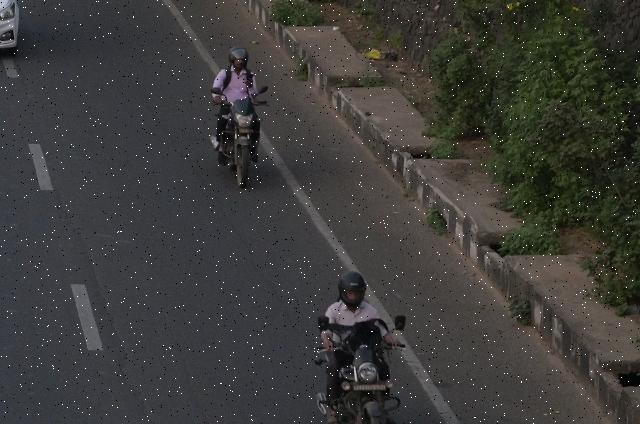With Helmet: (334, 267, 370, 308), (224, 44, 252, 70)
